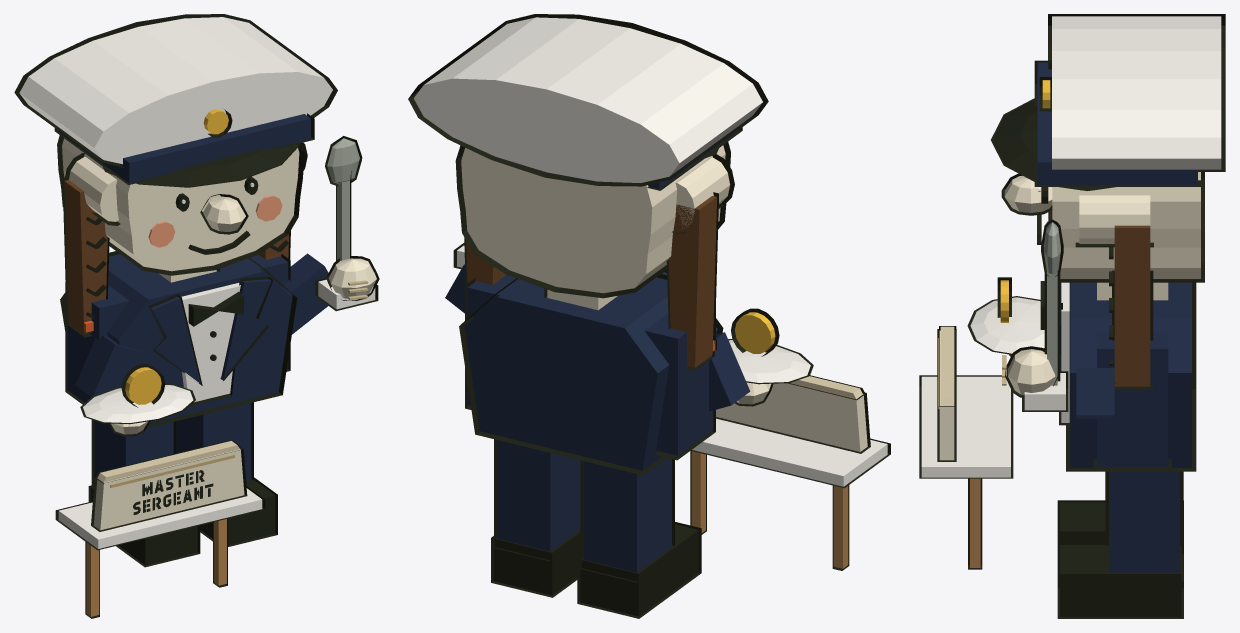
The picture shows the model from 3 angles, left to right: view 1: azimuth 30°, elevation 25°; view 2: azimuth 150°, elevation 25°; view 3: azimuth 270°, elevation 25°; orthographic projection. The views are drawn at different scales.
Parts seen in each view (by area): view 1: Link Marine; view 2: Link Marine; view 3: Link Marine.
Boxes of the visible parts, box(x1,y1,x2,y2) form: Link Marine: box(14, 14, 379, 618); Link Marine: box(408, 14, 890, 618); Link Marine: box(919, 14, 1225, 618).
Bounding box in the file's own units: 0.722 × 0.9942 × 0.5155.
